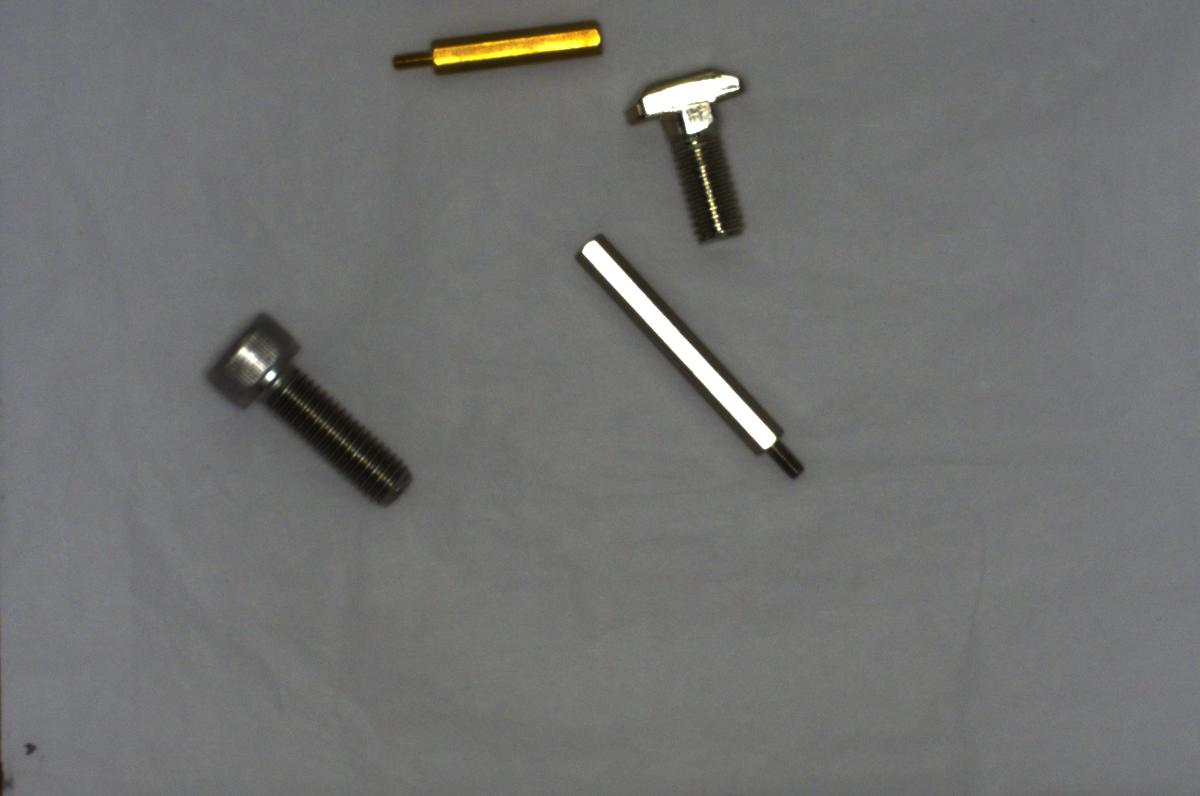Hexagon pillar: (384, 14, 615, 73)
Hexagon screw: (194, 309, 414, 510)
Hexagonal steel column: (570, 233, 813, 493)
T-shaped screw: (628, 55, 751, 259)
